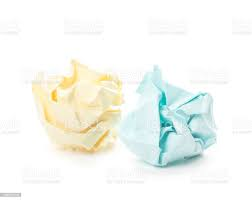crumpled paper: (27, 62, 120, 148), (131, 64, 212, 159)
